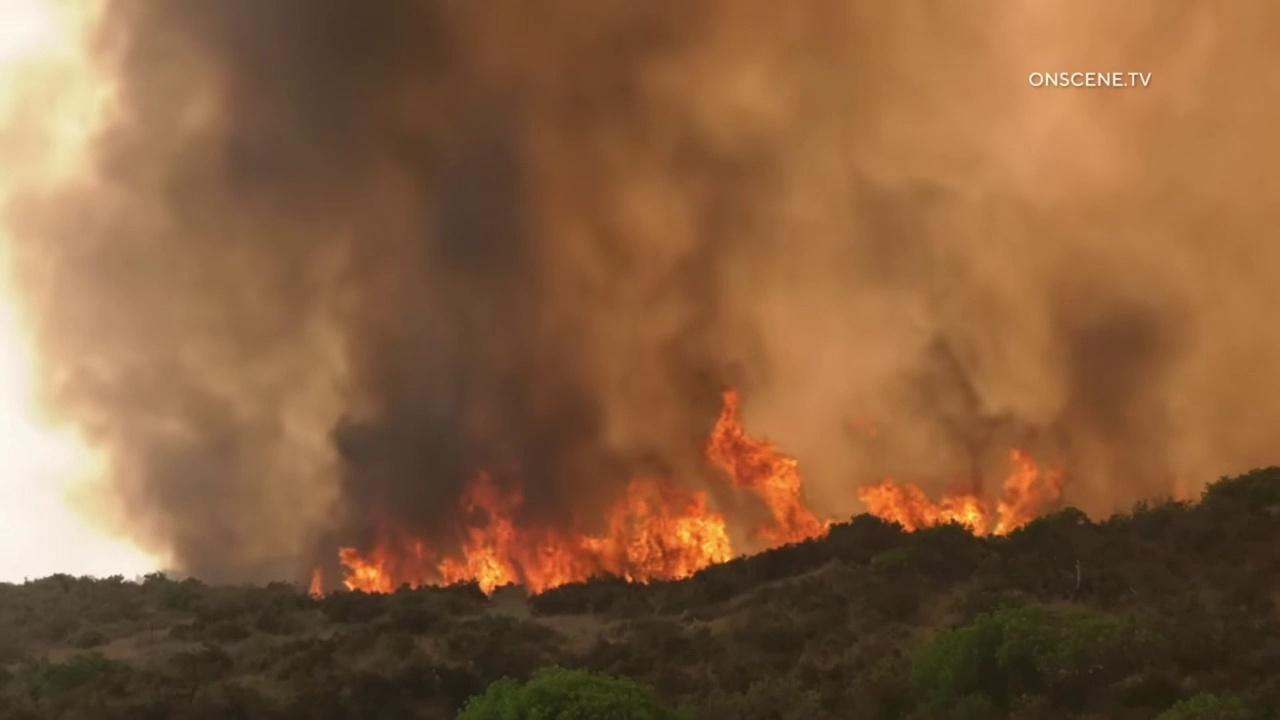fire: (339, 390, 842, 601), (856, 448, 1066, 538), (308, 565, 327, 603)
smoke: (0, 0, 1280, 584)
